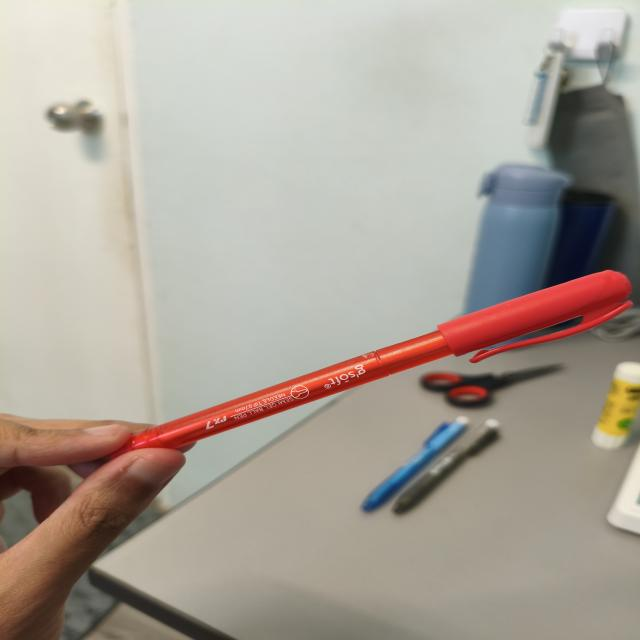pen: (110, 270, 632, 458)
